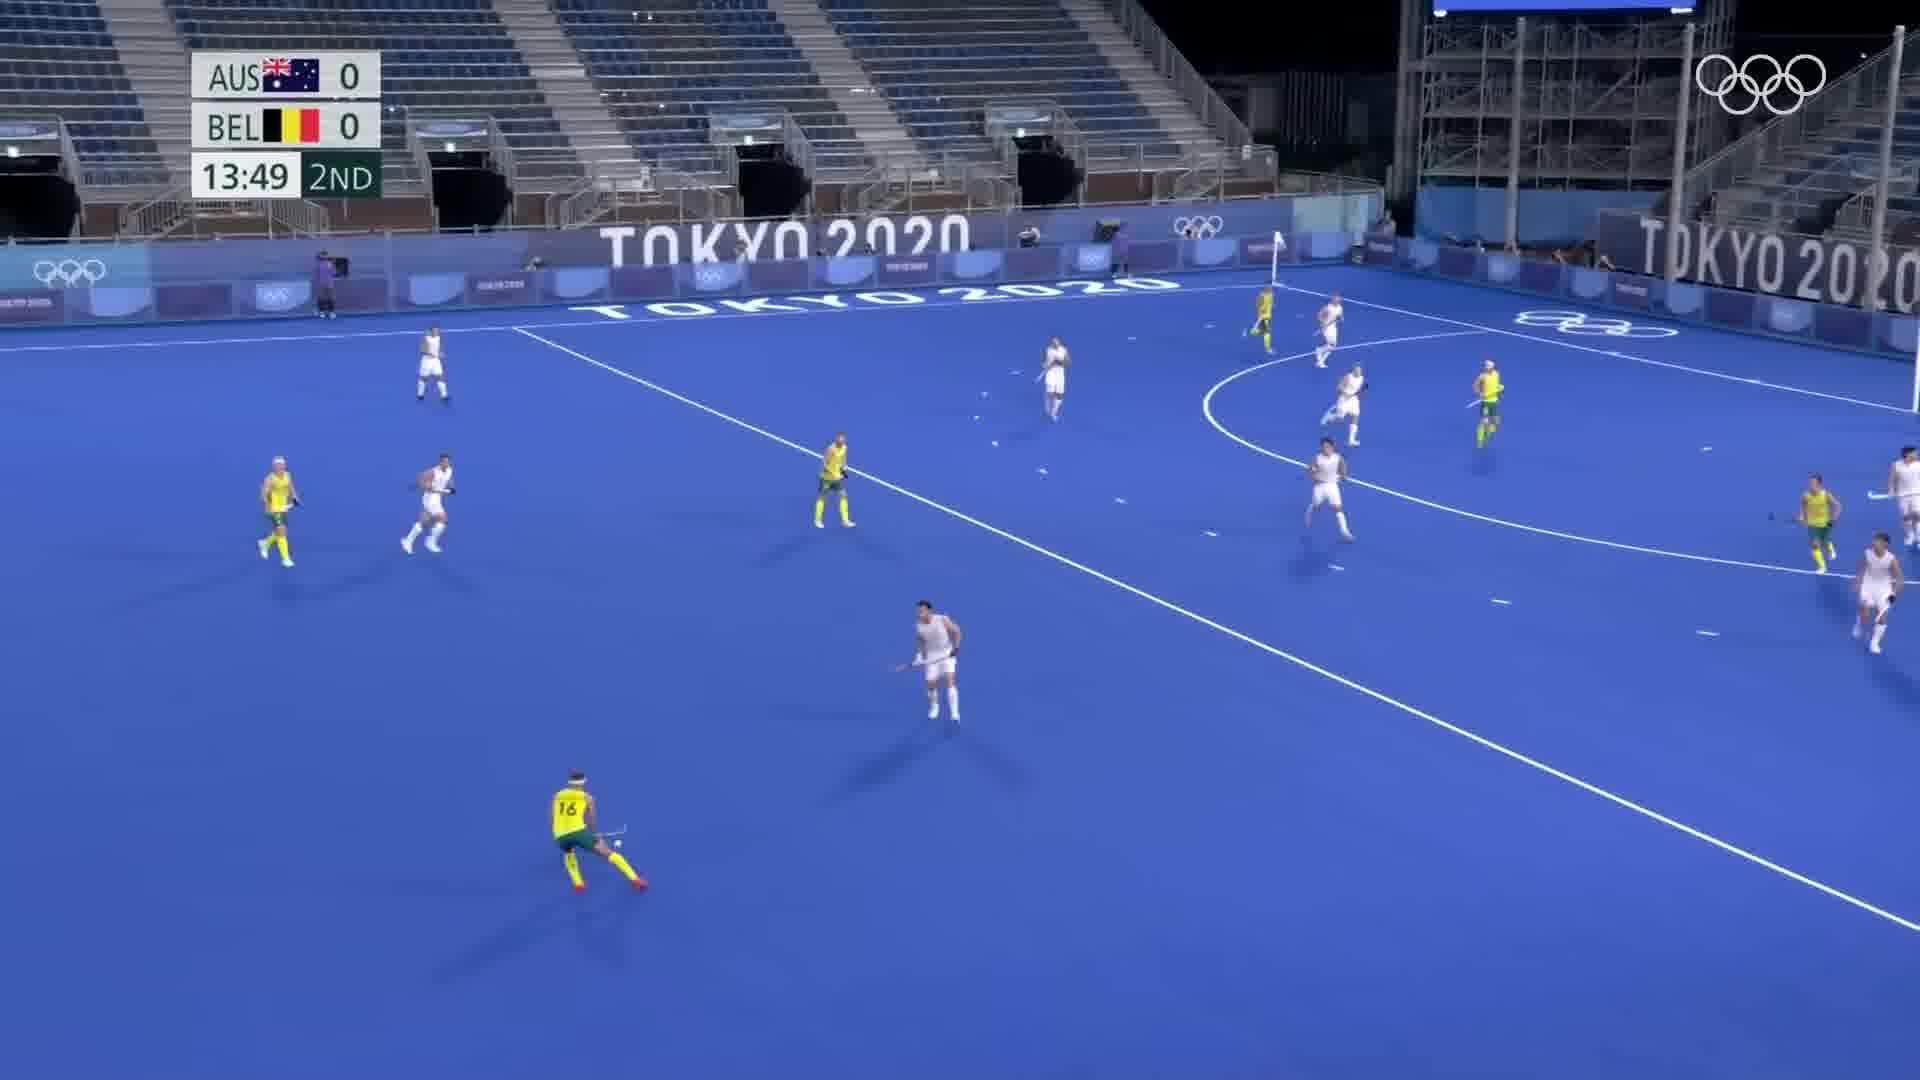ball: (609, 832, 630, 855)
